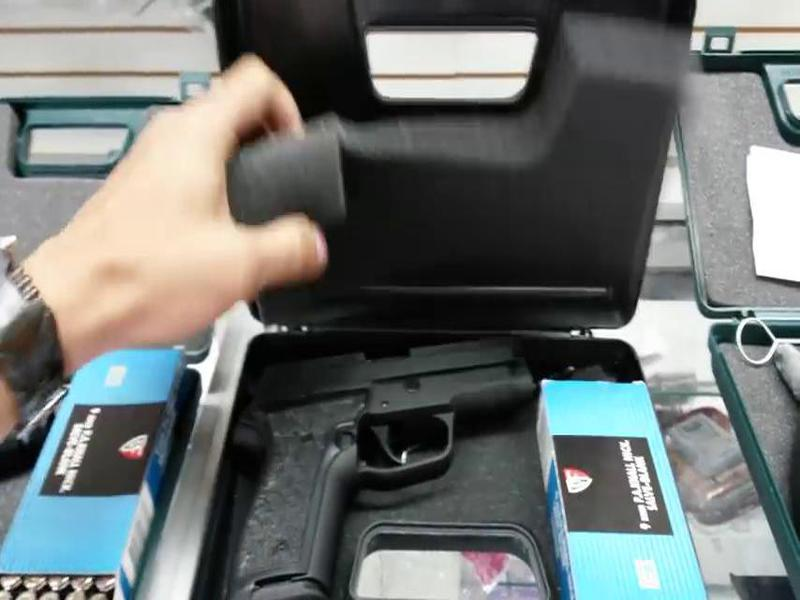Pistola: (218, 322, 539, 600)
